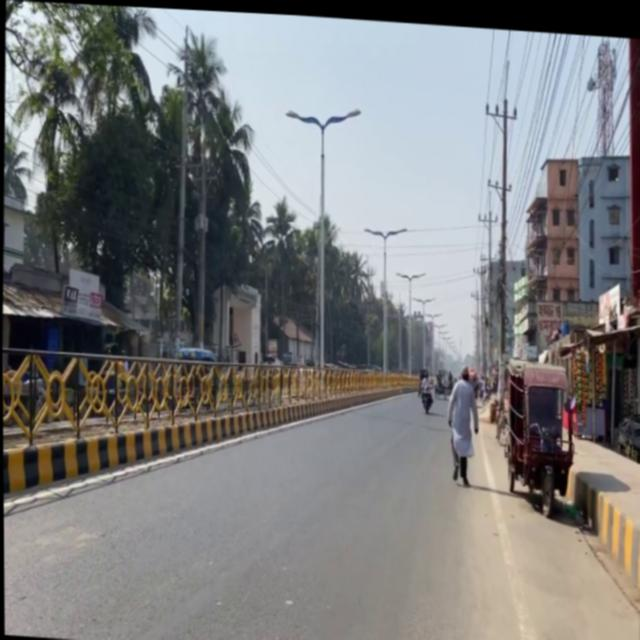Fallen-tree: (446, 416, 459, 475), (417, 373, 433, 409)
Garbage-bin: (443, 358, 479, 481)
Pole: (9, 329, 325, 495)
Traffic-cone: (499, 351, 576, 512)
